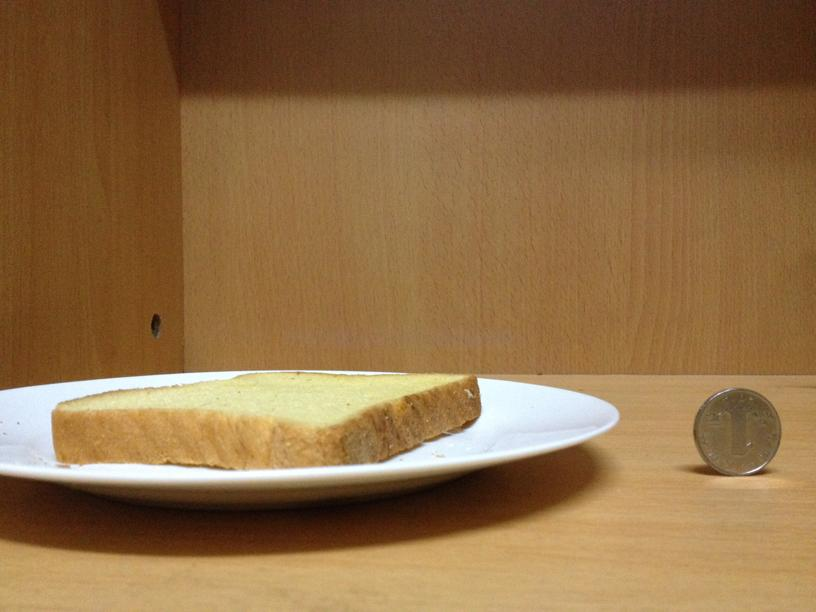bread: (47, 364, 483, 469)
coin: (692, 385, 780, 477)
